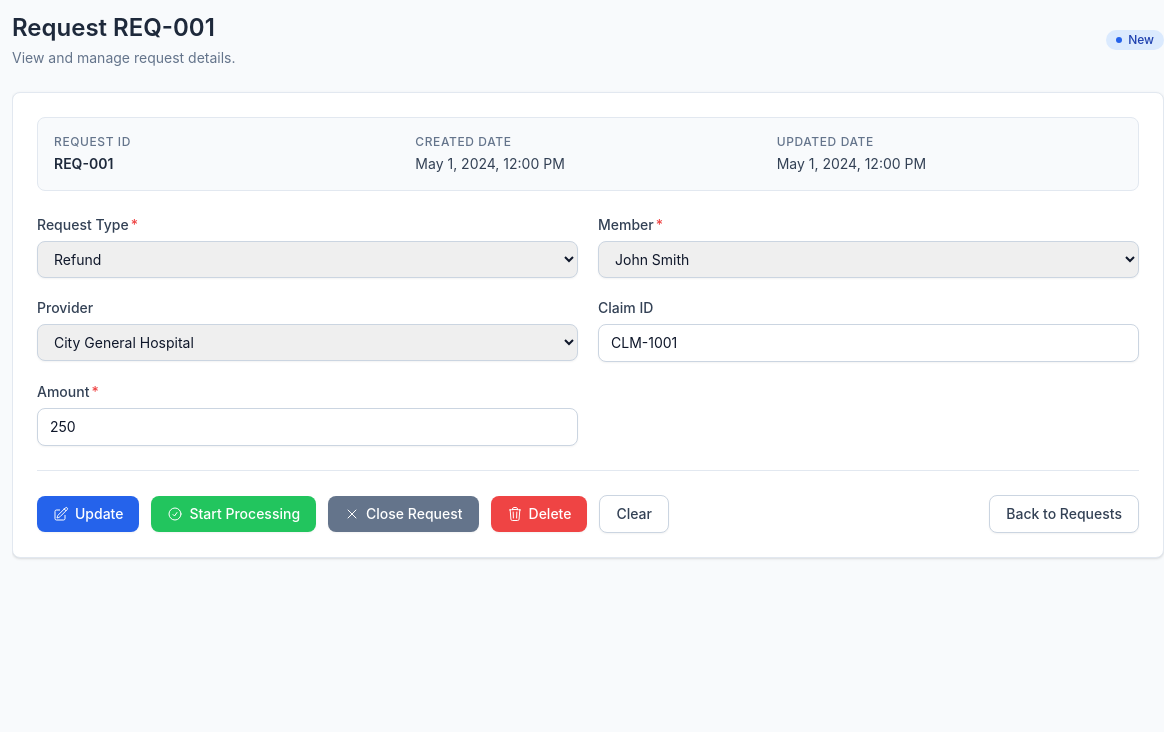
Test: CreateEditRequest › edit mode - update request › shows validation errors on update with invalid data
Clear the number field labelled "Amount*": (308, 427) [37, 408, 578, 446]
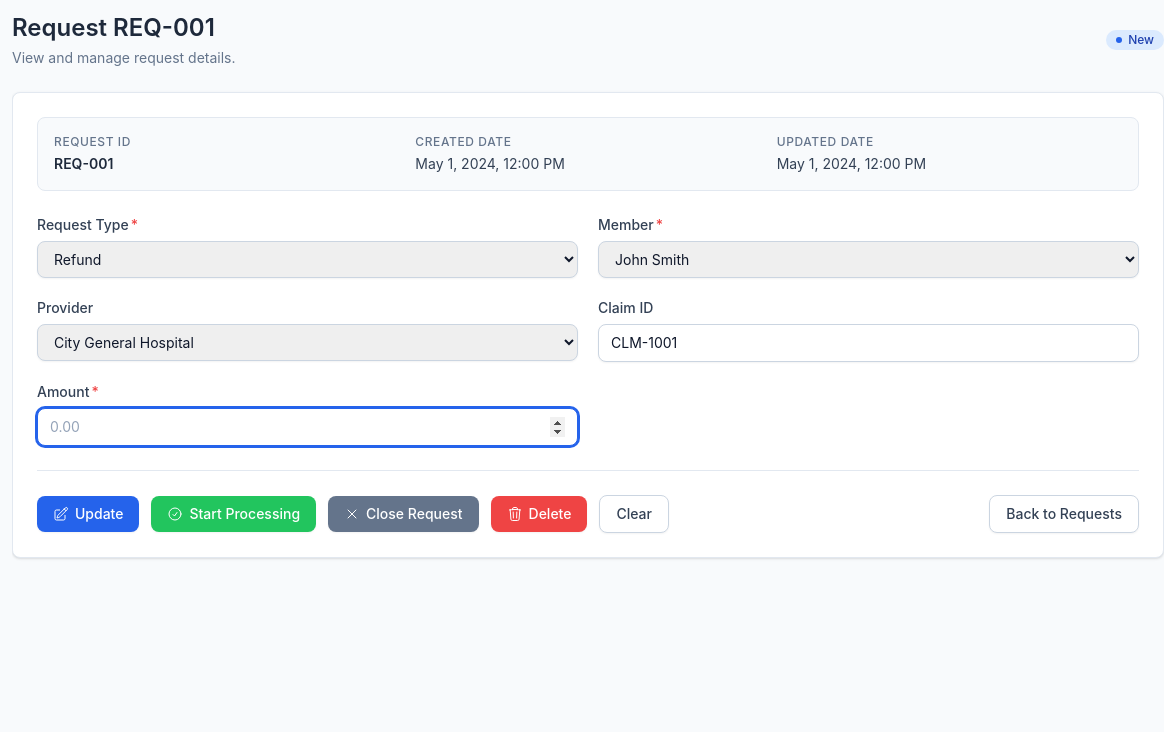
Click the button "Update": (88, 514) [37, 496, 140, 532]
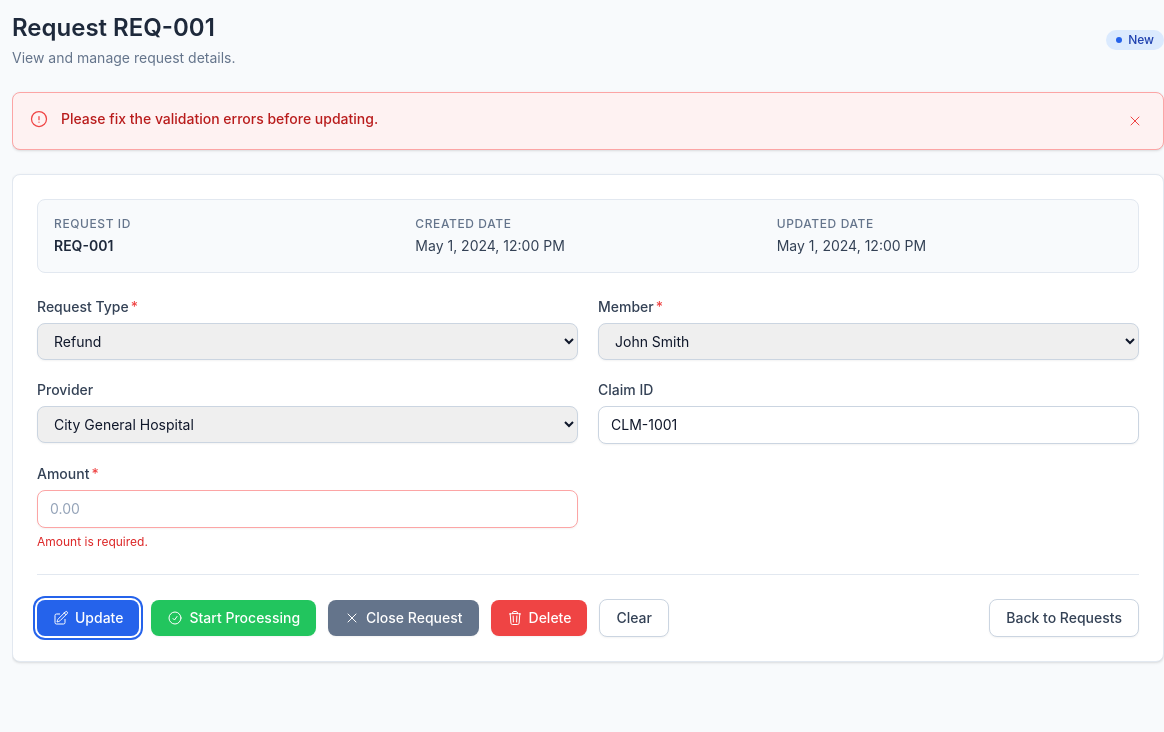
Result: the text "Please fix the validation errors before updating." is shown at [61, 110, 378, 127]
